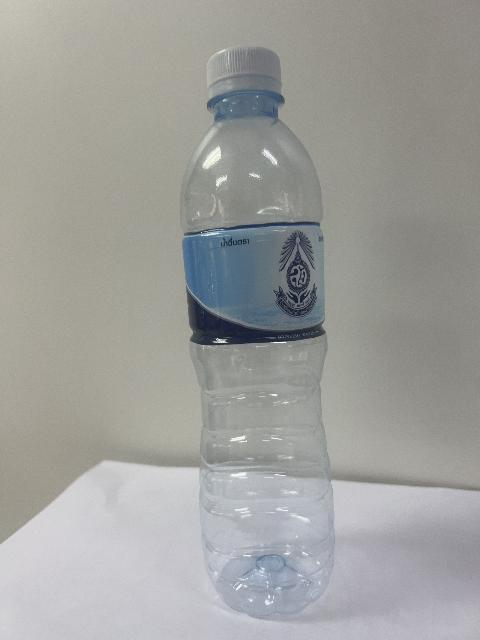bottle: (181, 47, 334, 616)
